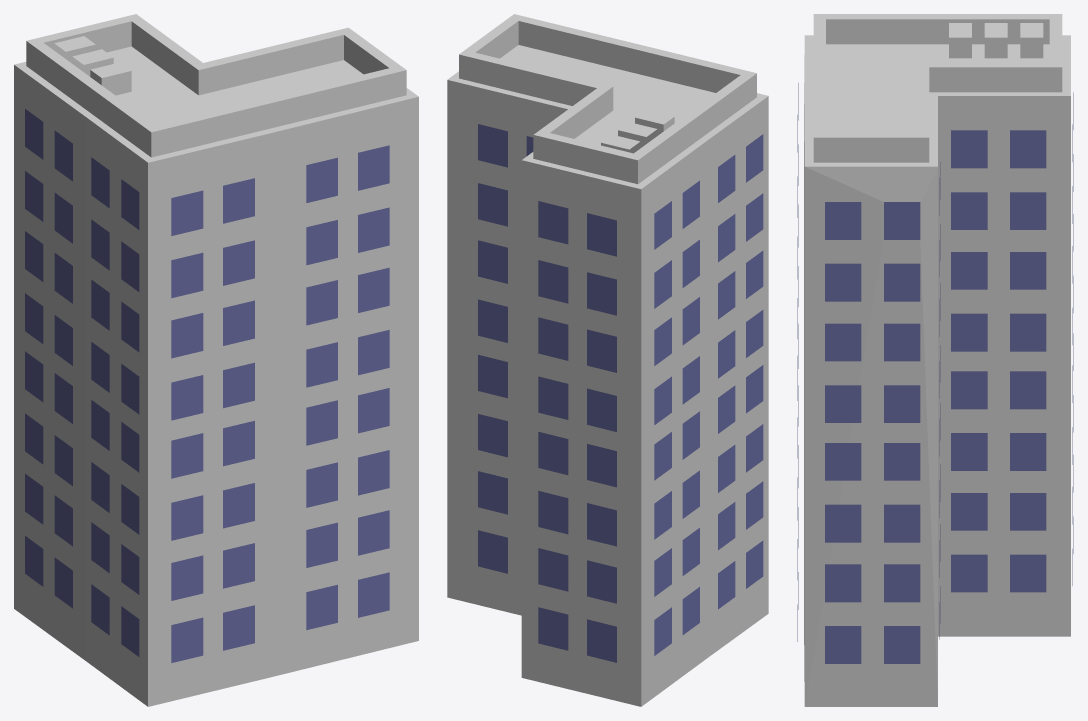
3 views of the same model, side by side, from view 1: azimuth 30°, elevation 25°; view 2: azimuth 150°, elevation 25°; view 3: azimuth 270°, elevation 25° (orthographic). The views are drawn at different scales.
Visible parts, largest first — view 1: Cube; view 2: Cube; view 3: Cube.
Part boxes in pixels (bbox=[...]): Cube: bbox=[14, 14, 418, 706]; Cube: bbox=[447, 14, 768, 706]; Cube: bbox=[797, 14, 1073, 706].
Bounding box in the file's own units: 1913 × 3781 × 1674.
